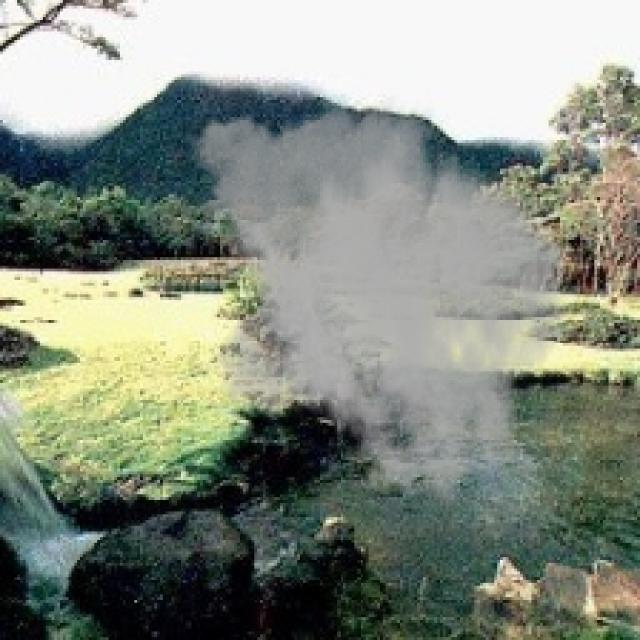smoke: (177, 91, 569, 508)
